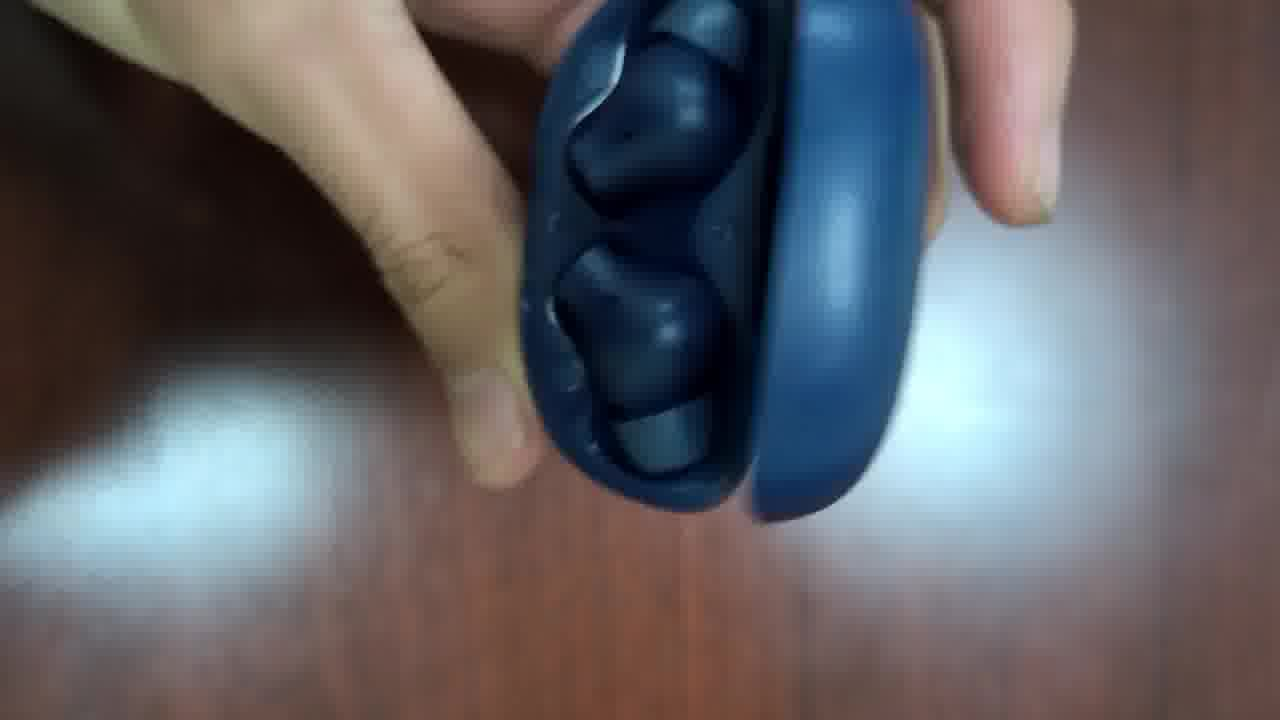Case: (520, 0, 929, 520)
Earbud: (556, 244, 725, 472), (568, 1, 747, 216)
